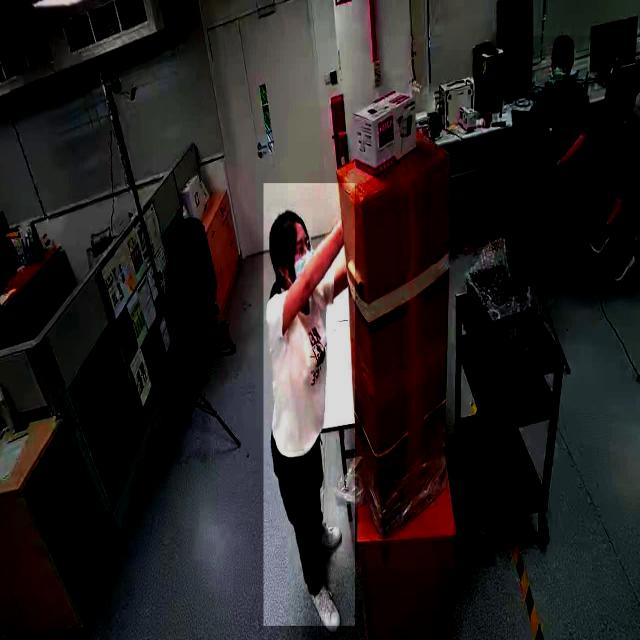face_mask: (290, 249, 318, 295), (552, 60, 566, 88)
head_nohelmet: (270, 207, 312, 238), (552, 33, 577, 55)
person: (263, 183, 355, 627), (531, 36, 592, 270)
shoes: (310, 579, 342, 635), (310, 520, 344, 547)
